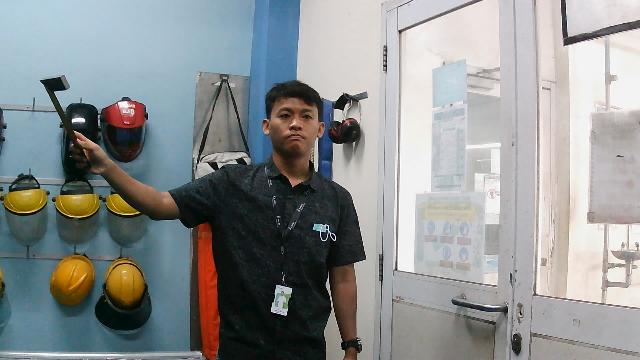penggaris_siku: (36, 72, 108, 162)
